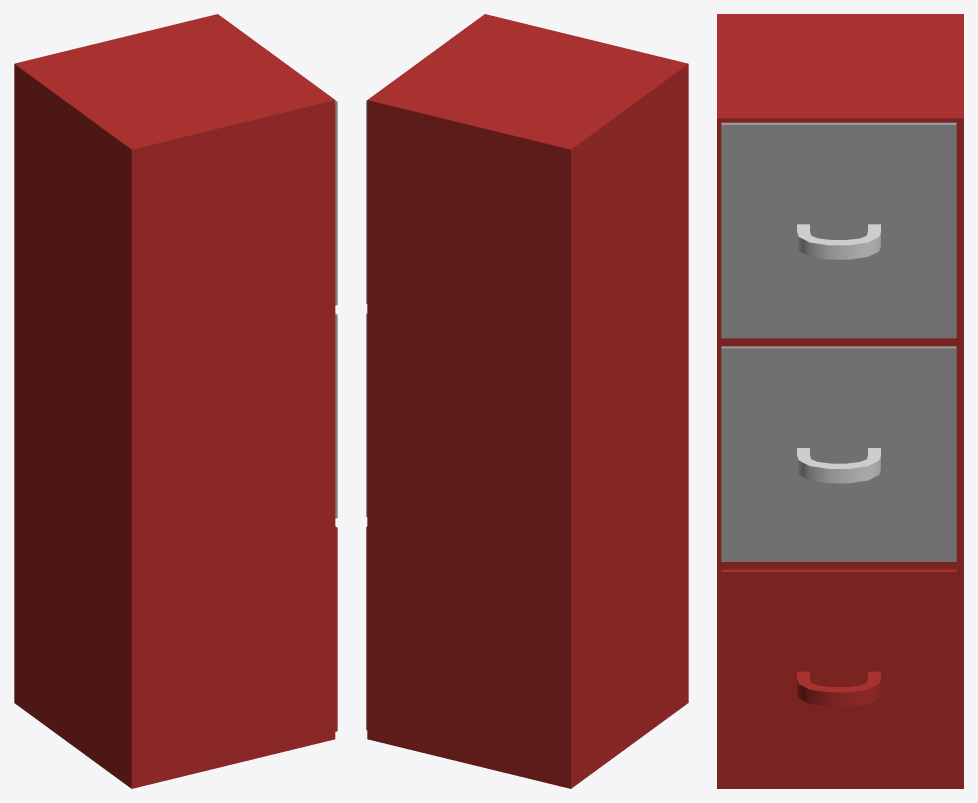
Rendered from FilingCabinet.fbx.
3 views of the same model, side by side, from view 1: azimuth 30°, elevation 25°; view 2: azimuth 150°, elevation 25°; view 3: azimuth 270°, elevation 25° (orthographic). The views are drawn at different scales.
Visible parts, largest first — view 1: FilingCabinet, Drawer; view 2: FilingCabinet; view 3: FilingCabinet, Drawer.
Boxes of the visible parts, x1=… form: FilingCabinet: x1=14, y1=14, x2=337, y2=788; Drawer: x1=335, y1=526, x2=337, y2=731; FilingCabinet: x1=366, y1=14, x2=688, y2=788; FilingCabinet: x1=717, y1=14, x2=963, y2=788; Drawer: x1=721, y1=569, x2=956, y2=785.
Size of the model in its own units: 1.28 by 3.14 by 1.05.
